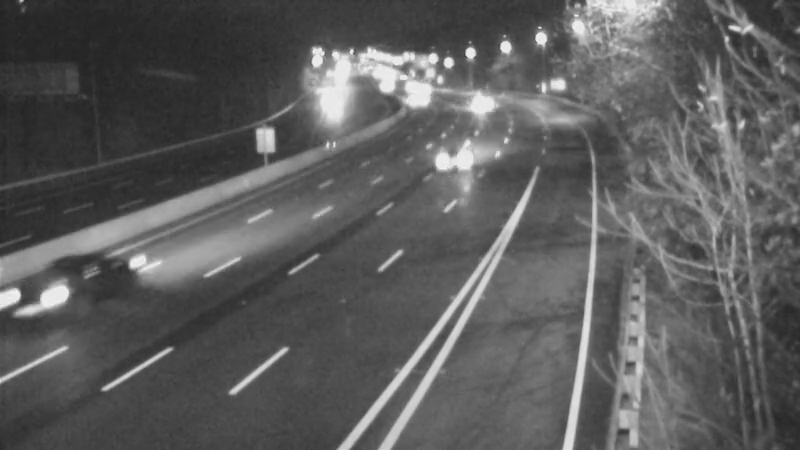vehicle: (420, 112, 500, 192), (4, 256, 84, 336), (362, 59, 412, 109), (397, 64, 447, 114), (451, 74, 501, 124), (388, 71, 438, 121), (303, 75, 353, 125)
